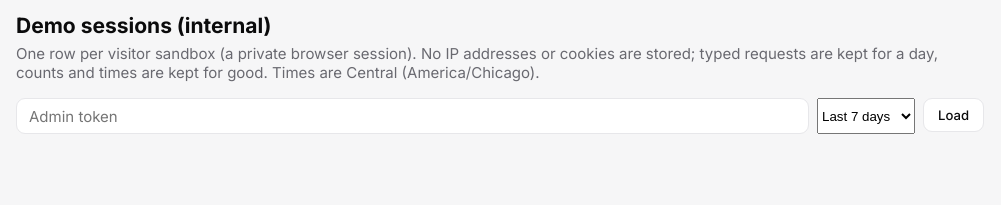
Test: SessionsView › shows the API error when the token is wrong
The width and height of the screenshot is (1001, 205).
Step 1. Click the button "Load" → point(954, 115), box left=923, top=98, right=984, bottom=132
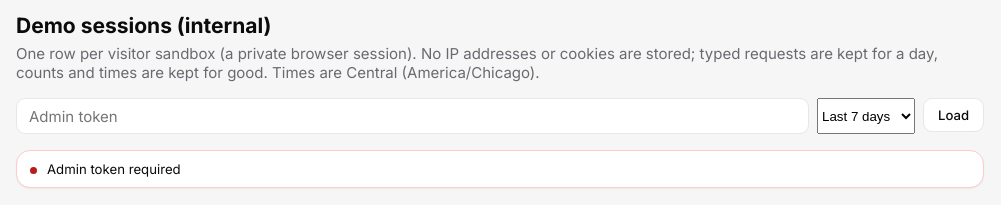
Result: the text "Admin token required" is shown at left=16, top=150, right=984, bottom=188
